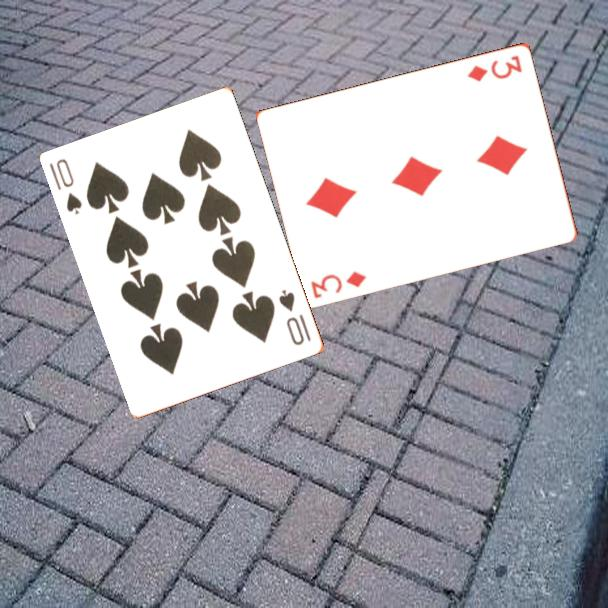d03: (308, 267, 369, 301), (464, 51, 525, 84)
s10: (46, 155, 85, 218), (275, 286, 314, 348)
